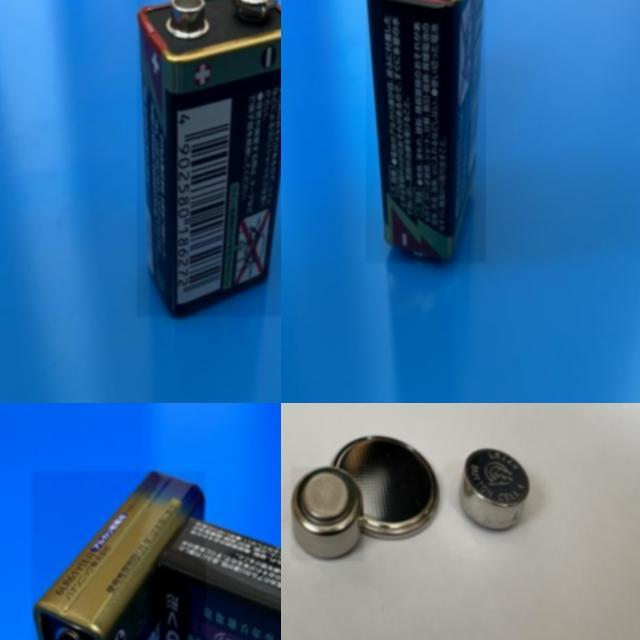9V: (137, 0, 281, 317), (366, 0, 486, 262), (31, 471, 206, 640), (157, 515, 281, 640)
